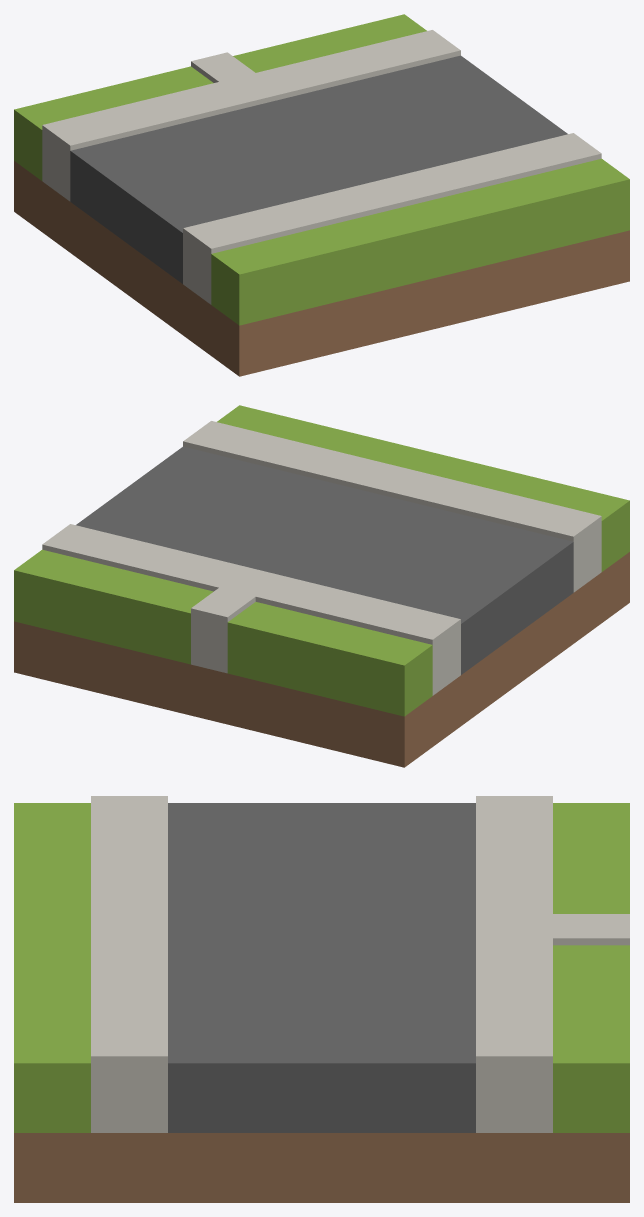
The model's file is road-straight-house-1-low.glb.
The picture shows the model from 3 angles, top to bottom: view 1: azimuth 30°, elevation 25°; view 2: azimuth 150°, elevation 25°; view 3: azimuth 270°, elevation 25°; orthographic projection. The views are drawn at different scales.
Parts seen in each view (by area): view 1: road-straight-house-1-low_Cube.044; view 2: road-straight-house-1-low_Cube.044; view 3: road-straight-house-1-low_Cube.044.
Part boxes in pixels (box(x1,y1,x2,y2)): road-straight-house-1-low_Cube.044: box(14, 14, 629, 376); road-straight-house-1-low_Cube.044: box(14, 405, 629, 767); road-straight-house-1-low_Cube.044: box(14, 796, 629, 1202).
Size of the model in its own units: 8 by 2.1 by 8.
Materials: 1 (1 with a texture image).
